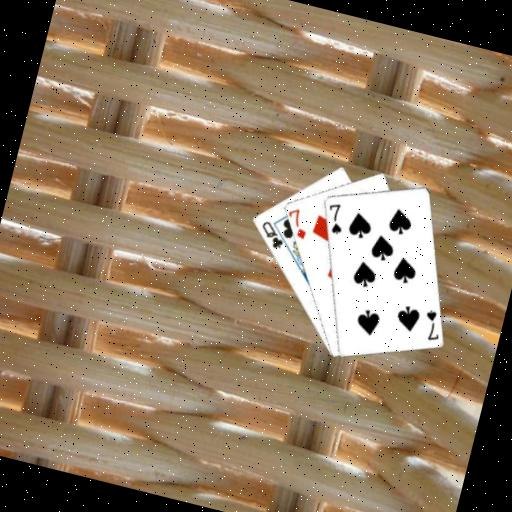7D: (281, 203, 314, 242)
7S: (416, 305, 447, 345), (319, 199, 350, 238)
QC: (254, 217, 289, 252)
